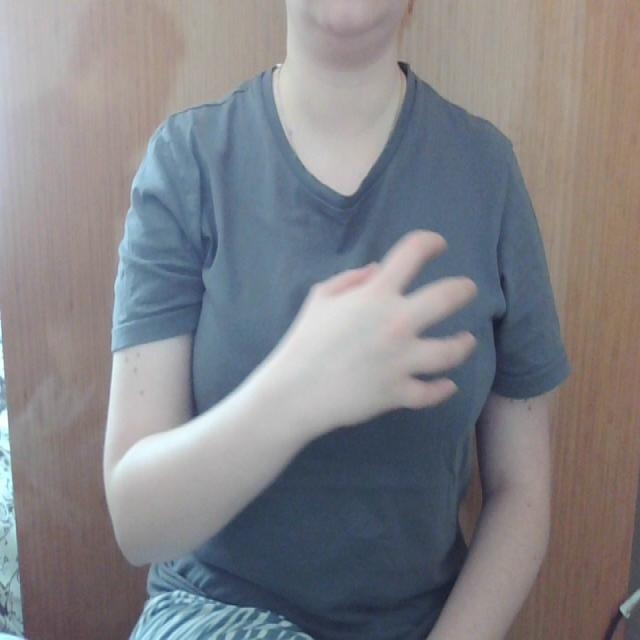Anne: (217, 225, 536, 416)
